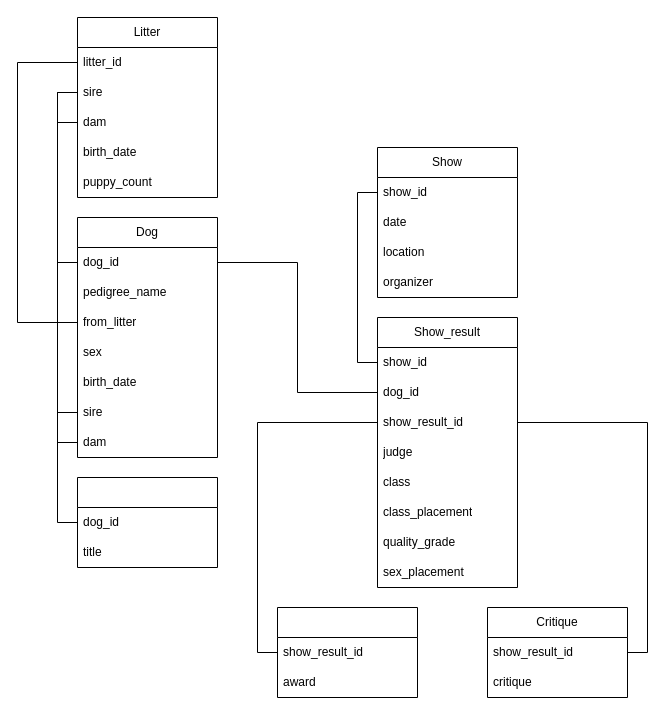
This 666x715 diagram has some shape labels left out. The box of each missing label's shape, as (x1, y1, x2, y2) in pixels:
Result_award: (276, 606, 418, 698)
Titles: (76, 476, 218, 568)
